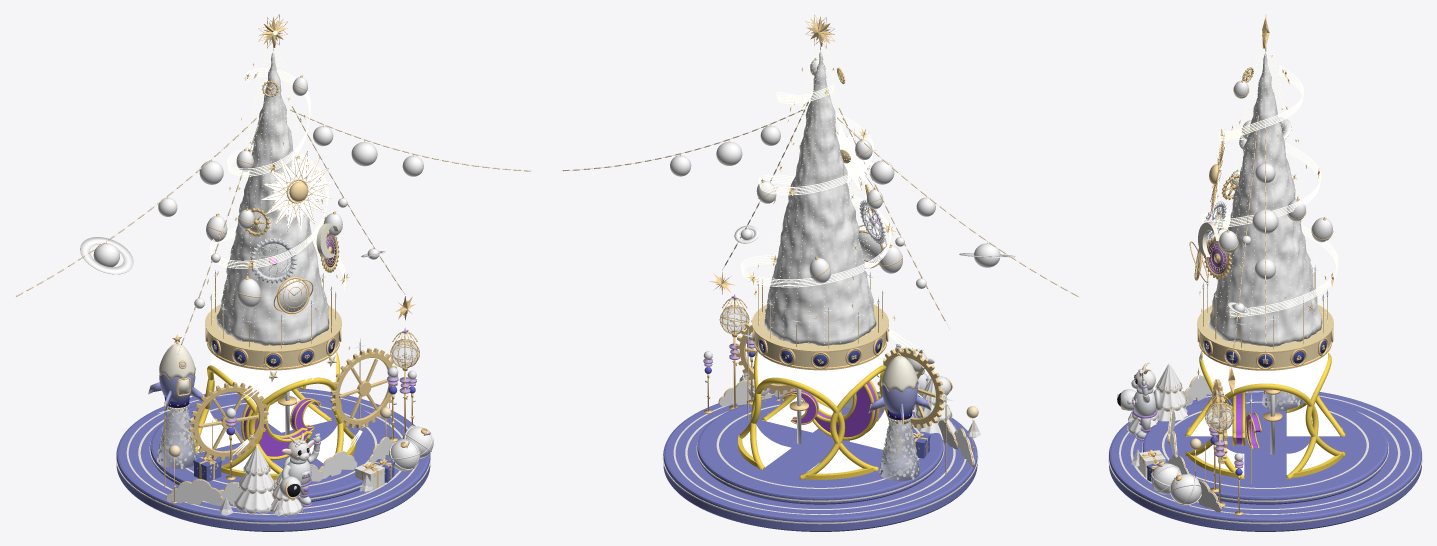
Rendered from tree.glb.
The picture shows the model from 3 angles, left to right: view 1: azimuth 30°, elevation 25°; view 2: azimuth 150°, elevation 25°; view 3: azimuth 270°, elevation 25°; orthographic projection.
Parts seen in each view (by area): view 1: TRE_foliage_cone, STG_tier1_outer, STG_tier2_inner, BAS_zodiac_rim, ORN_spiral_bands, ORN_sun_medallion_rays, BAS_shell, ARC_gear_L, ARC_gear_R, BAS_tunnel_lining, HERO_goat_astronaut, PRP_conetree_L_big (+19 smaller); view 2: TRE_foliage_cone, STG_tier1_outer, STG_tier2_inner, ORN_spiral_bands, BAS_shell, BAS_zodiac_rim, BAS_tunnel_lining, ARC_crescent_big, BAS_arch_rim_back, PRP_rocket_plume, ARC_gear_L, PRP_rocket_sequins (+15 smaller); view 3: TRE_foliage_cone, STG_tier2_inner, STG_tier1_outer, ORN_spiral_bands, BAS_shell, BAS_zodiac_rim, BAS_tunnel_lining, HERO_goat_astronaut, BAS_arch_rim_right, PRP_conetree_L_big, PRP_armillary_lamp, TRE_fairy_lights (+19 smaller).
Boxes of the visible parts, x1,y1,x2,y2 form: TRE_foliage_cone: (216,48,329,345); STG_tier1_outer: (116,388,430,531); STG_tier2_inner: (149,395,394,501); BAS_zodiac_rim: (205,304,341,370); ORN_spiral_bands: (209,68,346,290); ORN_sun_medallion_rays: (261,151,332,230); BAS_shell: (210,352,351,473); ARC_gear_L: (188,382,268,460); ARC_gear_R: (330,348,397,428); BAS_tunnel_lining: (198,373,337,469); HERO_goat_astronaut: (279,432,320,506); PRP_conetree_L_big: (233,445,275,513); TRE_foliage_cone: (764,44,876,345); STG_tier1_outer: (662,391,978,531); STG_tier2_inner: (696,395,944,504); ORN_spiral_bands: (740,84,891,287); BAS_shell: (742,352,883,473); BAS_zodiac_rim: (752,304,888,370); BAS_tunnel_lining: (756,373,895,472); ARC_crescent_big: (812,380,879,440); BAS_arch_rim_back: (750,377,845,479); PRP_rocket_plume: (879,421,920,481); ARC_gear_L: (877,347,945,428); PRP_rocket_sequins: (879,419,919,479); TRE_foliage_cone: (1208,47,1322,346); STG_tier2_inner: (1142,394,1388,504); STG_tier1_outer: (1108,389,1422,531); ORN_spiral_bands: (1201,65,1338,317); BAS_shell: (1196,352,1334,469); BAS_zodiac_rim: (1197,304,1333,370); BAS_tunnel_lining: (1191,402,1339,474); HERO_goat_astronaut: (1117,362,1161,440); BAS_arch_rim_right: (1216,383,1318,479); PRP_conetree_L_big: (1155,363,1187,421); PRP_armillary_lamp: (1205,391,1234,507); TRE_fairy_lights: (1201,49,1328,344).
Size of the model in its own units: 12.4 by 10.29 by 6.53.
